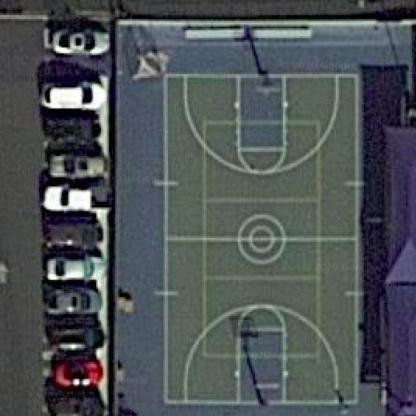car: (43, 21, 114, 59), (42, 76, 103, 117), (46, 323, 111, 358), (39, 176, 105, 209), (40, 256, 101, 289), (52, 145, 107, 181), (43, 220, 100, 254), (46, 362, 110, 390), (38, 291, 106, 315)
